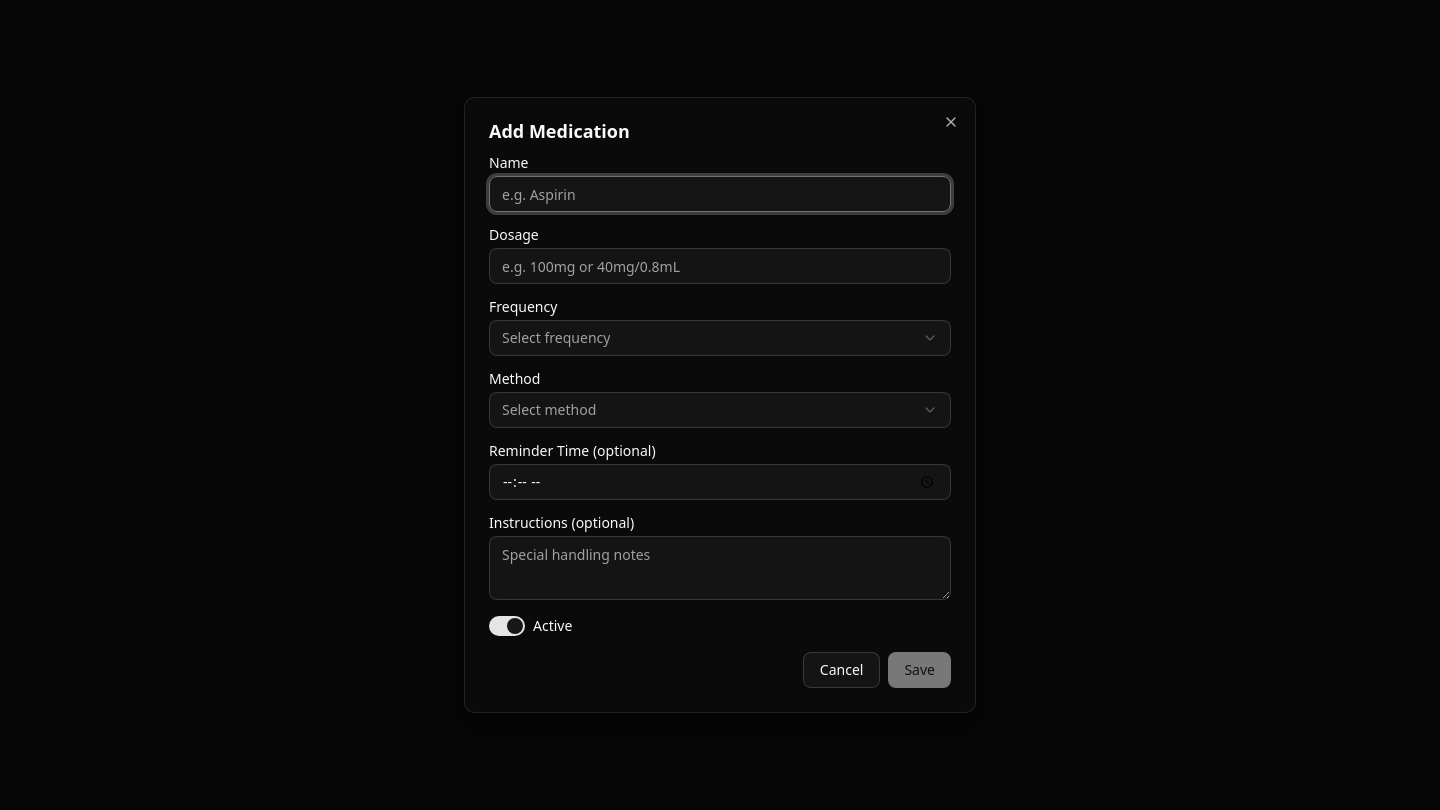
Test: MedicationForm › Scheduled Day field appears when Frequency = Weekly
Note: Open frequency select
Click the dropdown labelled "Select frequency": (556,338) [489,320,951,356]
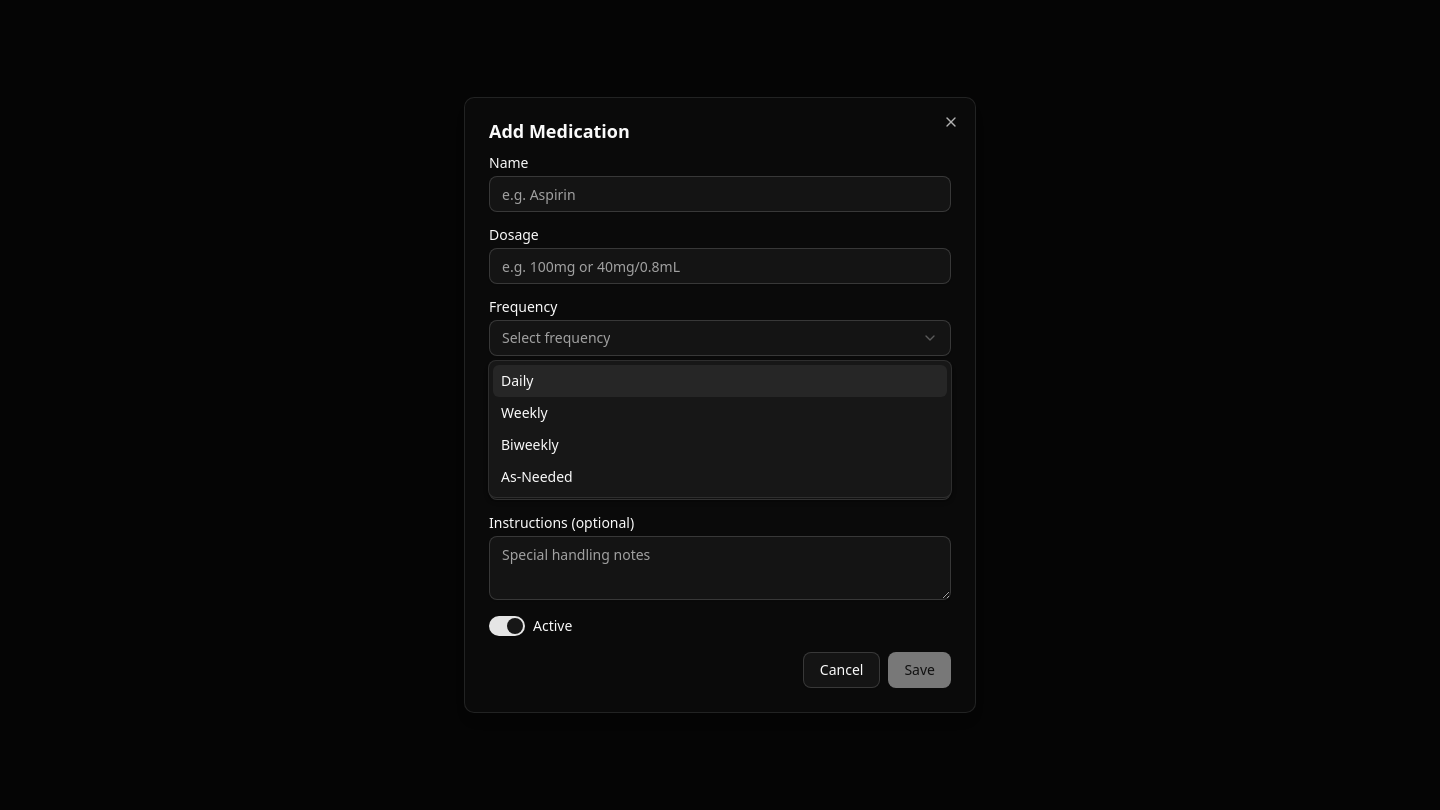
Click the option "Weekly": (524,412) [501,403,548,422]
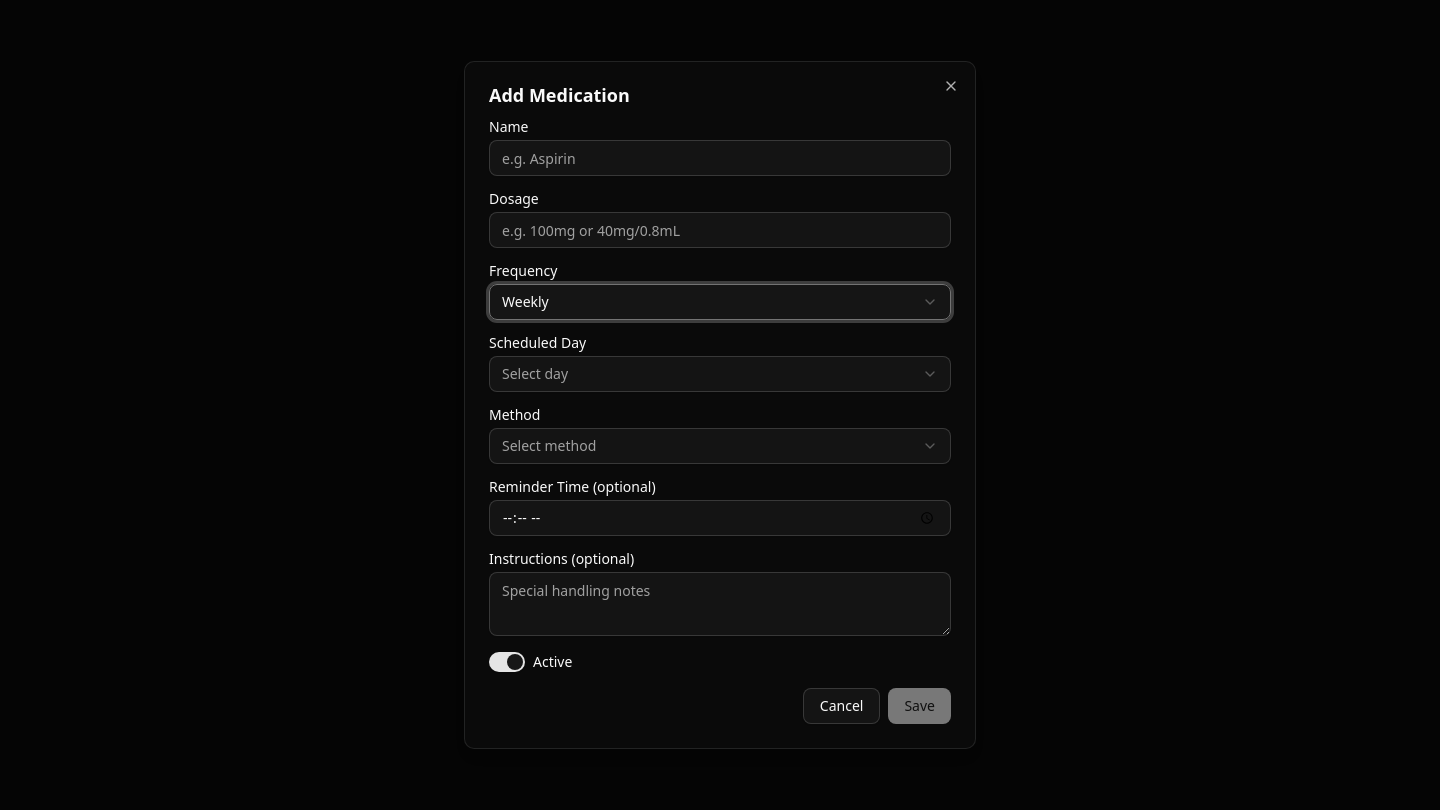
Now the dropdown named "scheduled day" is shown, box [489,356,951,392]
